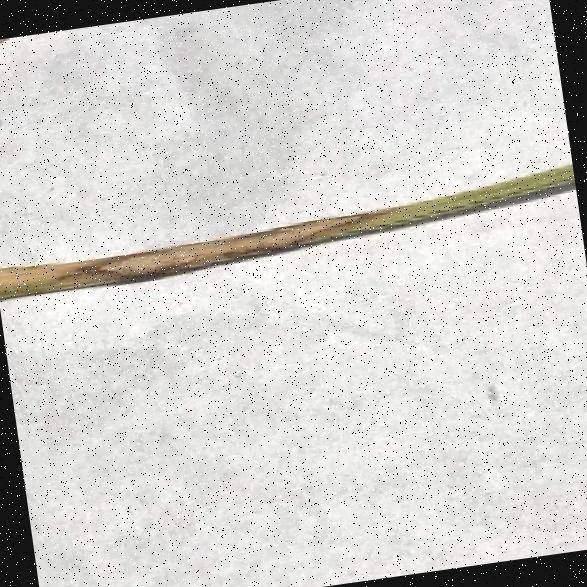Leaf_smut: (38, 177, 510, 293)
